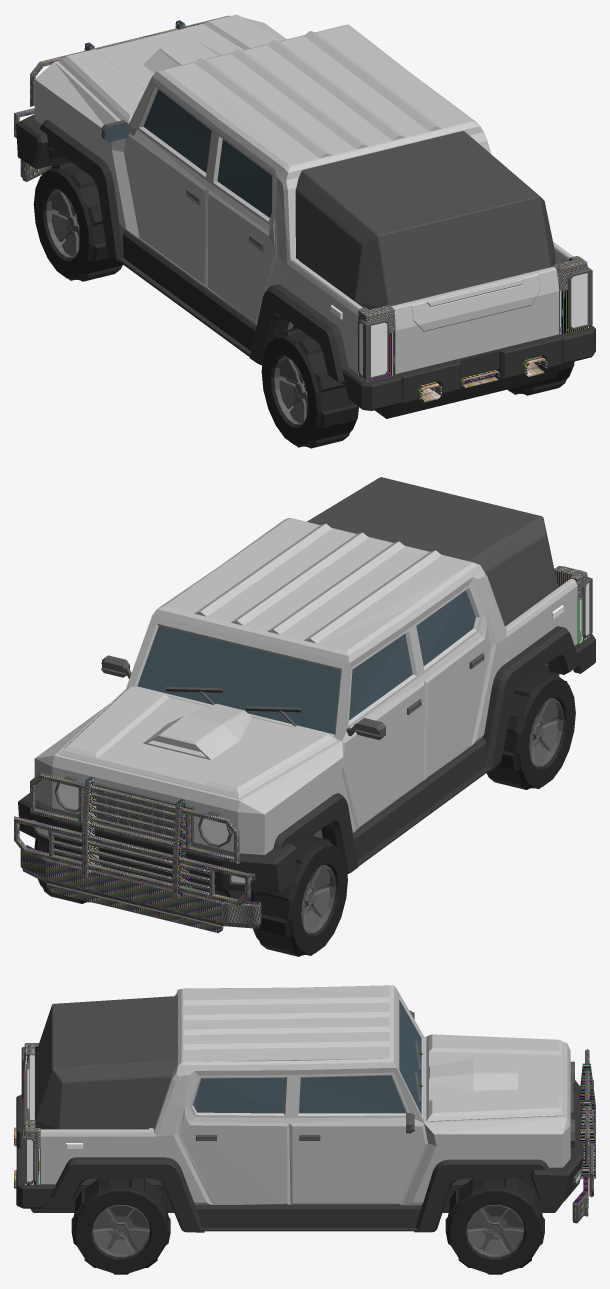
Rendered from lp-suv-white.glb.
3 renders of one model, top to bottom at view 1: azimuth 30°, elevation 25°; view 2: azimuth 150°, elevation 25°; view 3: azimuth 270°, elevation 25°, orthographic. The views are drawn at different scales.
Parts seen in each view (by area): view 1: lp-suv-white; view 2: lp-suv-white; view 3: lp-suv-white.
Boxes of the visible parts, x1,y1,x2,y2 form: lp-suv-white: (14, 14, 595, 448); lp-suv-white: (14, 477, 595, 956); lp-suv-white: (14, 985, 595, 1274).
Size of the model in its own units: 2.29 by 1.95 by 5.
Materials: 1 (1 with a texture image).
